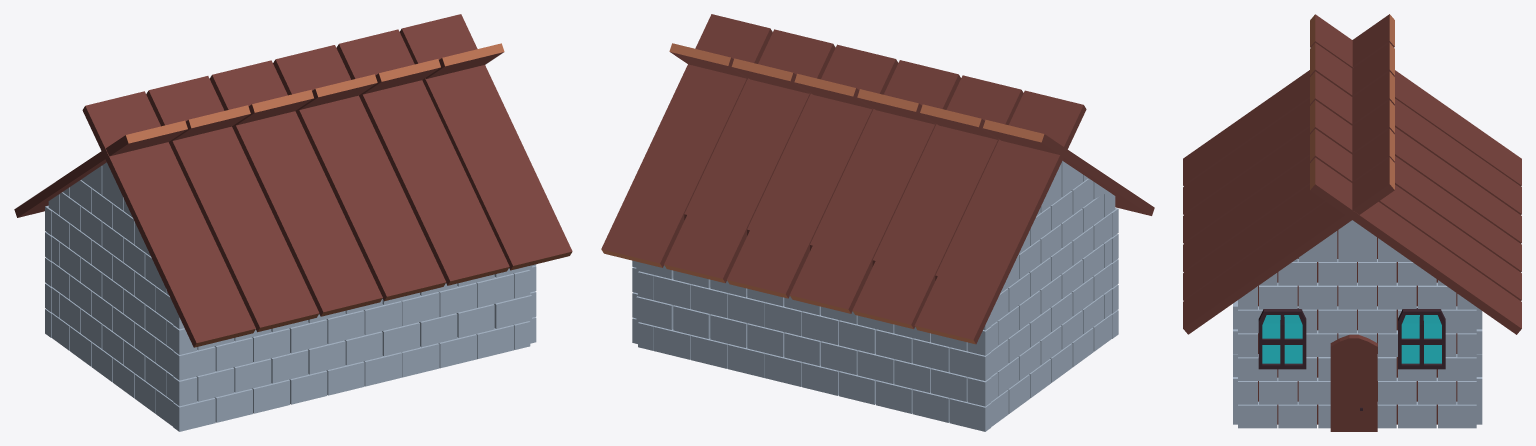
The model's file is dwelling_build_lv2.fbx.
3 renders of one model, left to right at view 1: azimuth 30°, elevation 25°; view 2: azimuth 150°, elevation 25°; view 3: azimuth 270°, elevation 25°, orthographic. The views are drawn at different scales.
Parts seen in each view (by area): view 1: Cube.010, Cube.141; view 2: Cube.010, Cube.141, Cube; view 3: Cube.010, Cube.141, Cube.026, Cube.016, Cube.001, Cube.
Part boxes in pixels (x1,y1,x2,y2): Cube.010: [14, 14, 572, 347]; Cube.141: [45, 162, 536, 431]; Cube.010: [601, 14, 1154, 344]; Cube.141: [632, 161, 1118, 431]; Cube: [684, 78, 1000, 280]; Cube.010: [1183, 14, 1521, 334]; Cube.141: [1233, 220, 1482, 428]; Cube.026: [1330, 334, 1377, 431]; Cube.016: [1258, 308, 1306, 369]; Cube.001: [1398, 308, 1445, 369]; Cube: [1258, 230, 1457, 424].
Bounding box in the file's own units: 7.72 × 5.21 × 6.46.
